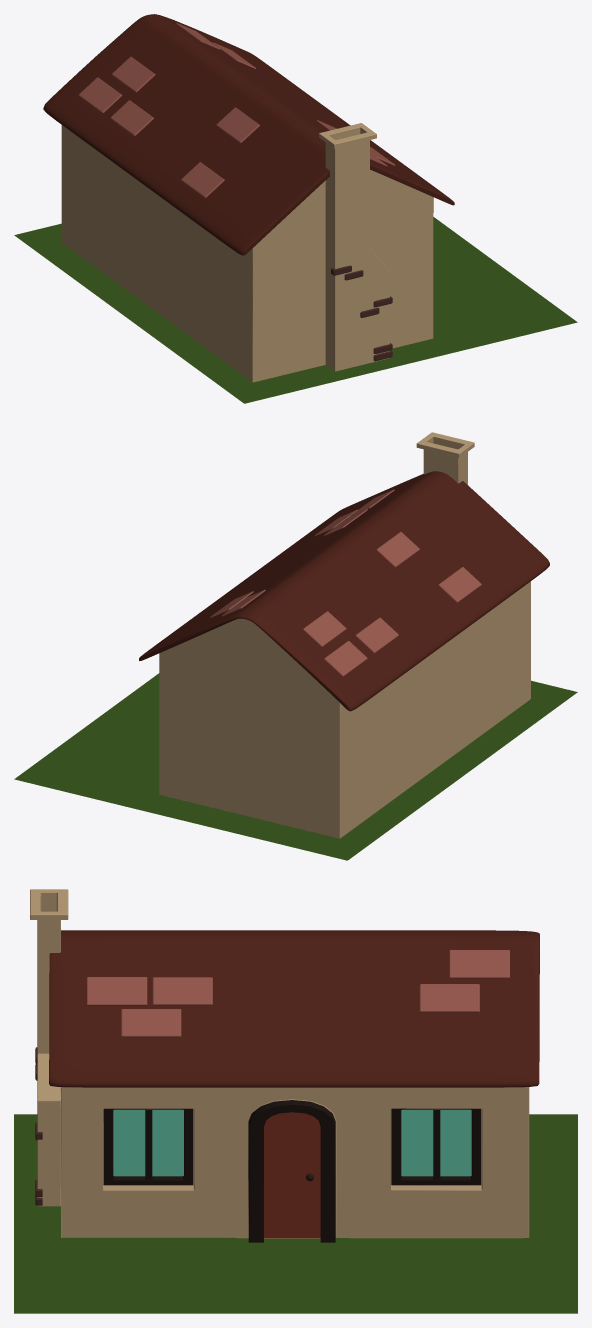
File: House.fbx
3 views of the same model, one above another, from view 1: azimuth 30°, elevation 25°; view 2: azimuth 150°, elevation 25°; view 3: azimuth 270°, elevation 25° (orthographic). The views are drawn at different scales.
Visible parts, largest first — view 1: Walls, Roof, Ground, Plane.007, Plane.006, Plane.008, Plane.005, Plane.009; view 2: Walls, Roof, Ground, Plane.005, Plane.006, Plane.008, Plane.007, Plane.009; view 3: Roof, Walls, Ground, Door, Window1, Window, Plane, Plane.003, Plane.001, Plane.004, Plane.002.
Part boxes in pixels (box(x1,y1,x2,y2)): Walls: box(61, 16, 433, 382); Roof: box(43, 14, 454, 255); Ground: box(14, 217, 577, 403); Plane.007: box(110, 100, 153, 135); Plane.006: box(216, 107, 259, 143); Plane.008: box(78, 77, 122, 113); Plane.005: box(181, 162, 224, 197); Plane.009: box(112, 56, 155, 92); Walls: box(159, 432, 530, 838); Roof: box(139, 471, 549, 711); Ground: box(14, 673, 577, 860); Plane.005: box(438, 567, 481, 602); Plane.006: box(376, 532, 419, 567); Plane.008: box(324, 640, 367, 676); Plane.007: box(355, 617, 398, 653); Plane.009: box(303, 611, 346, 646); Roof: box(49, 930, 539, 1087); Walls: box(30, 889, 529, 1242); Ground: box(14, 1114, 577, 1313); Door: box(264, 1112, 320, 1238); Window1: box(401, 1109, 471, 1176); Window: box(113, 1109, 183, 1176); Plane: box(87, 977, 147, 1005); Plane.003: box(449, 950, 509, 978); Plane.001: box(152, 977, 212, 1005); Plane.004: box(419, 984, 479, 1012); Plane.002: box(121, 1009, 181, 1037).
Size of the model in its own units: 800 by 529 by 957.
